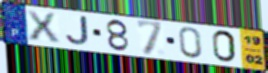0: (211, 30, 238, 64), (178, 27, 204, 60)
7: (135, 18, 165, 58)
8: (105, 18, 130, 52)
J: (64, 15, 90, 47)
X: (23, 9, 62, 44)
